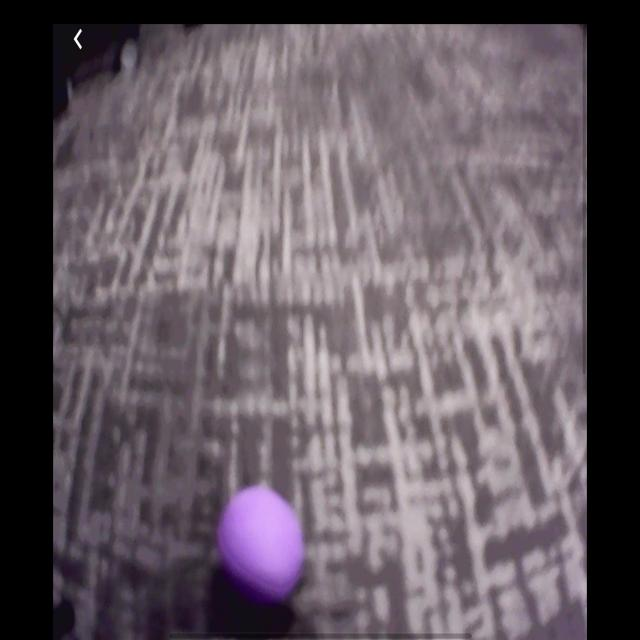ball: (218, 484, 307, 604)
